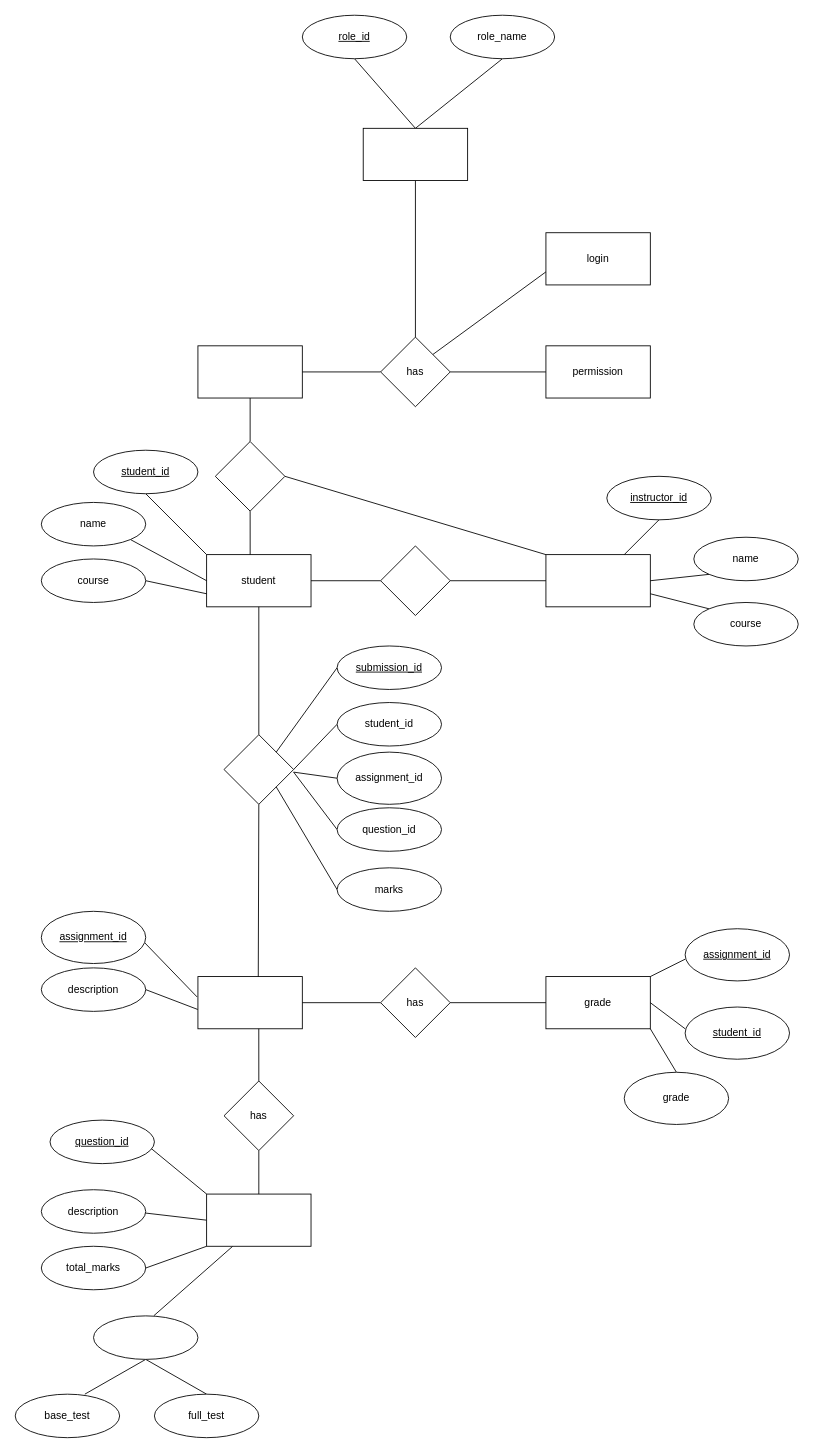
The diagram is 813 pixels wide and 1453 high, and some of its shapes have lost their labels. Here are the shapes that lost their labels. From the top down, the centre of each, then its label:
At pixel 415 154: "role".
At pixel 249 371: "user".
At pixel 249 476: "manage".
At pixel 415 580: "allows".
At pixel 597 580: "instructor".
At pixel 258 769: "submits".
At pixel 249 1002: "assignment".
At pixel 258 1219: "question".
At pixel 145 1337: "test_case".
